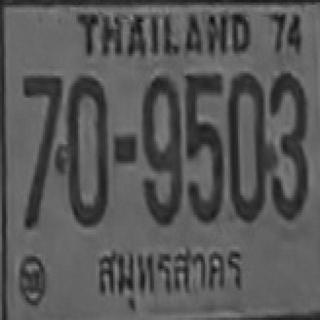N00: (64, 73, 107, 225), (226, 72, 265, 221)
N03: (266, 71, 307, 217)
N05: (185, 72, 222, 228)
N07: (22, 73, 62, 242), (22, 73, 62, 178)
N09: (140, 80, 182, 224)
P58: (89, 236, 248, 310)
